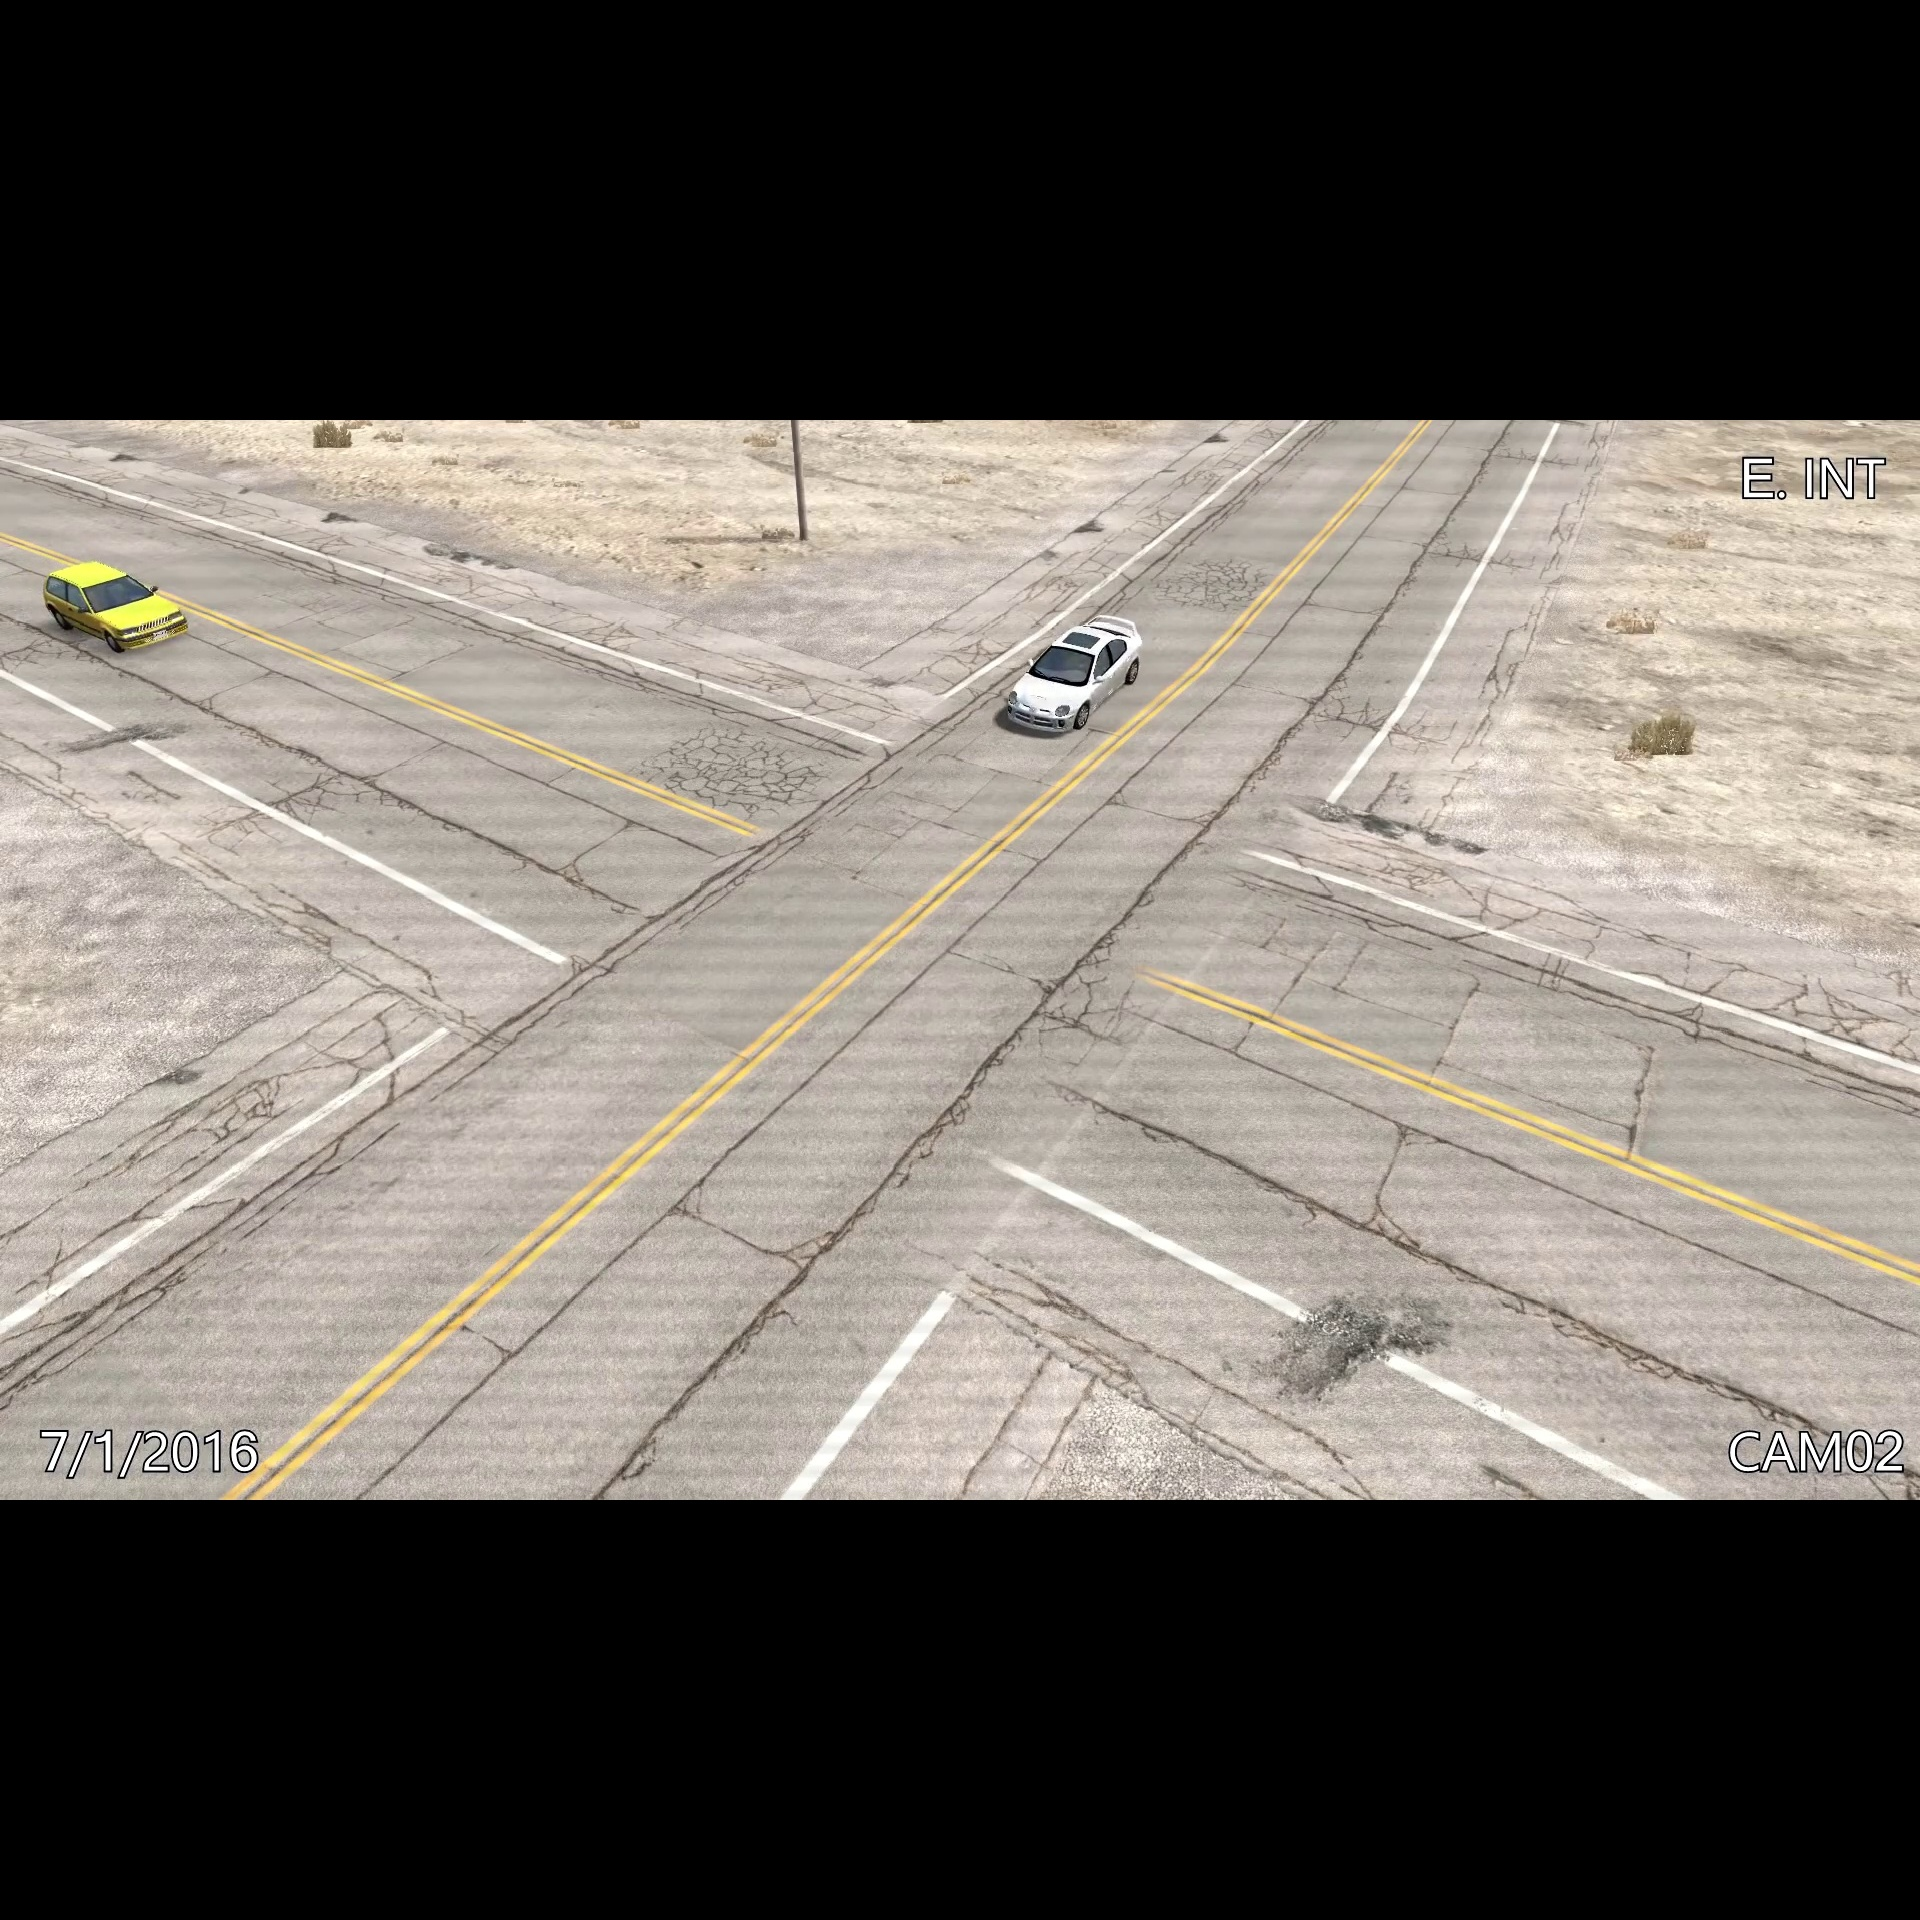vehicle: (1000, 612, 1152, 742), (39, 556, 190, 658)
